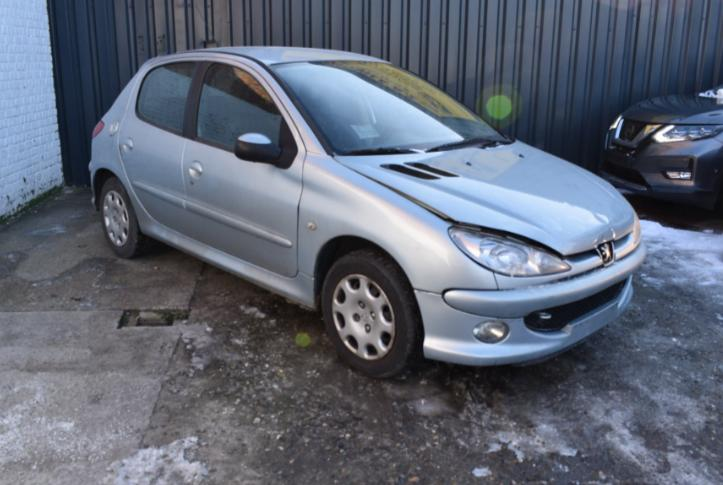Back-door: (119, 58, 207, 236)
Back-wheel: (100, 178, 157, 259)
Back-window: (139, 62, 195, 132)
Fender: (298, 151, 498, 293)
Front-bumper: (415, 239, 646, 365)
Front-door: (182, 57, 306, 277)
Front-wheel: (322, 247, 424, 379)
Front-window: (198, 64, 282, 148)
Grille: (495, 233, 636, 289)
Headlight: (448, 227, 571, 275), (633, 210, 642, 247)
Hood: (334, 140, 633, 255)
Mirror: (234, 132, 282, 163)
Quarter-panel: (89, 113, 155, 223)
Rocker-panel: (137, 219, 314, 308)
Roof: (166, 46, 392, 66)
Tail-light: (92, 120, 104, 138)
Windshield: (269, 61, 511, 156)
